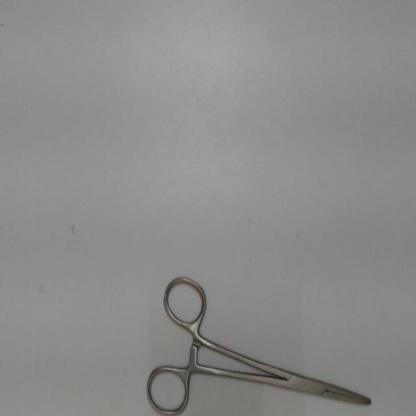Mayo Needle Holder: (140, 268, 379, 414)
